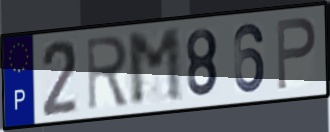2: (39, 37, 81, 119)
6: (232, 21, 268, 94)
8: (185, 26, 220, 100)
M: (125, 26, 186, 110)
P: (274, 15, 318, 93)
R: (84, 33, 130, 113)
